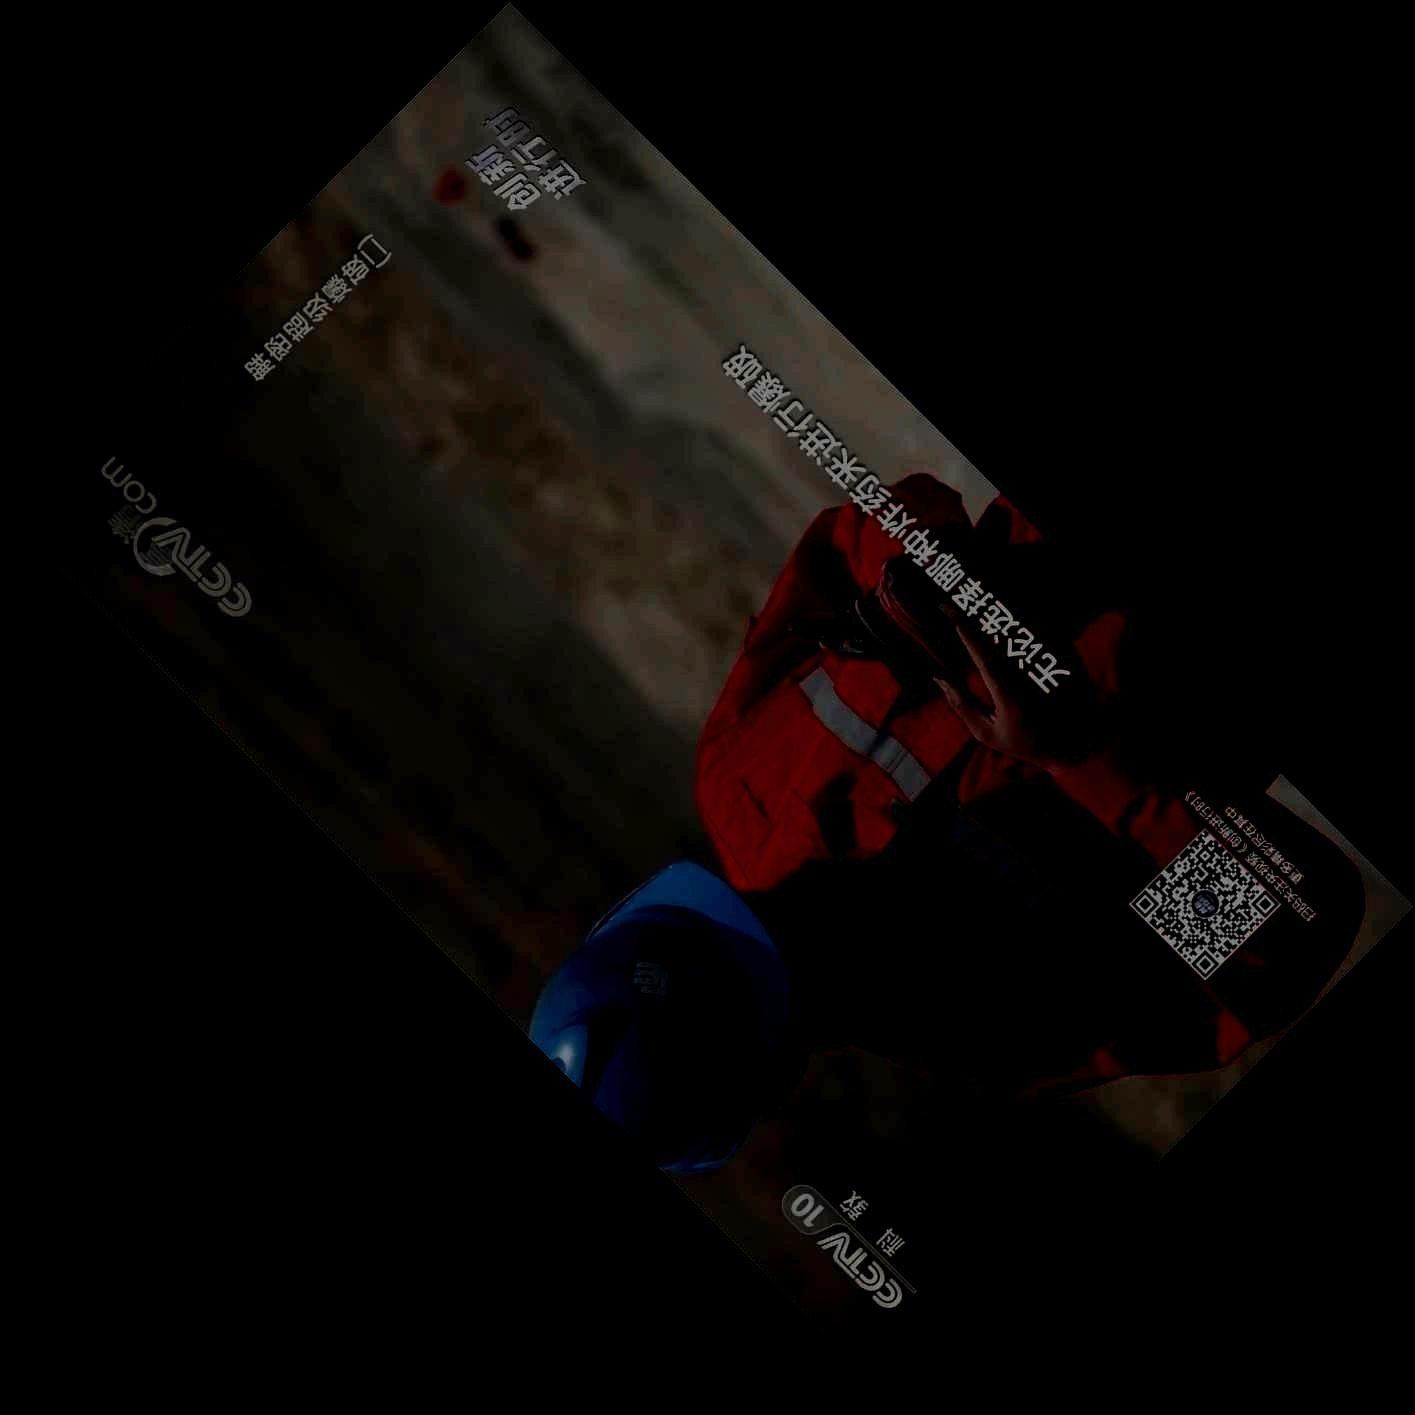helmet: (526, 862, 803, 1174)
